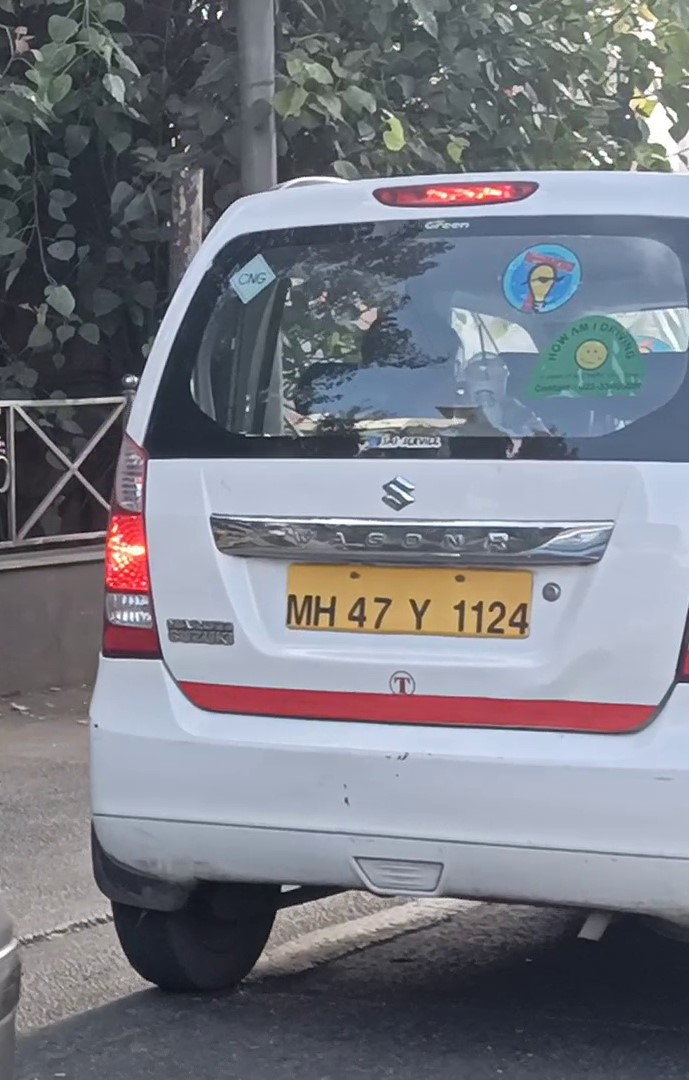MH47Y1124: (286, 559, 534, 639)
